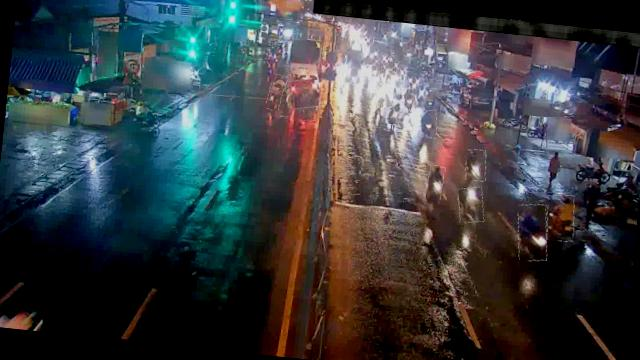Bike: (514, 203, 550, 262), (544, 194, 577, 243), (456, 186, 486, 226), (287, 78, 323, 110), (464, 149, 487, 183), (426, 166, 444, 204), (418, 109, 438, 139), (266, 82, 284, 112), (386, 101, 403, 126), (401, 88, 417, 114), (392, 78, 404, 102), (272, 75, 288, 92), (374, 87, 386, 109), (425, 87, 437, 108)
Truck: (287, 38, 322, 80)
